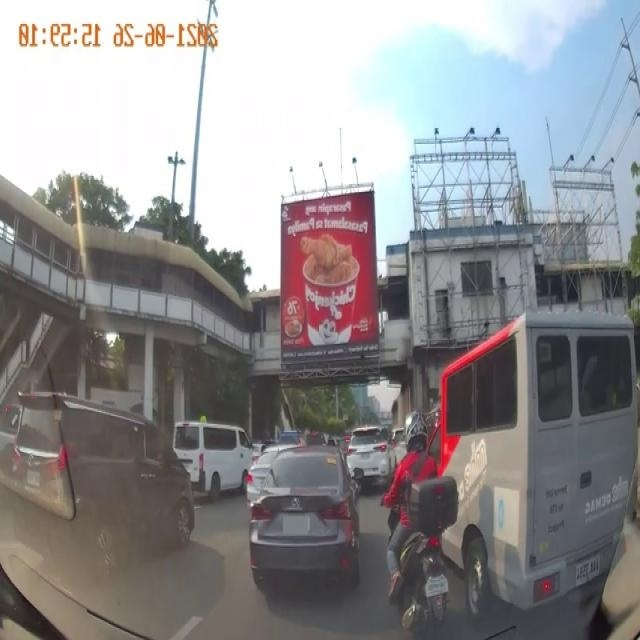car: (418, 307, 640, 628), (9, 415, 196, 589), (170, 420, 253, 500), (344, 413, 396, 489)
motorcycle: (386, 422, 454, 636)
